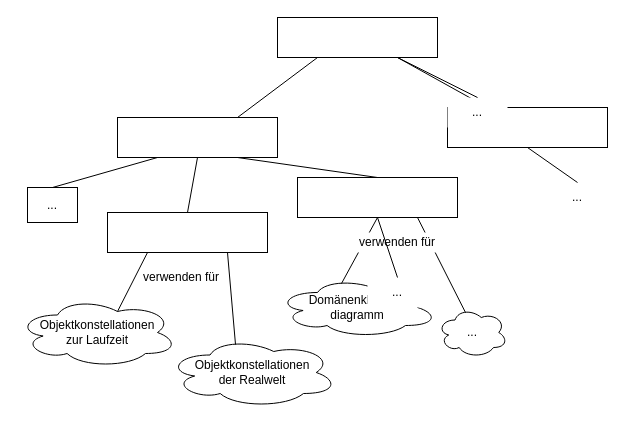
Some shapes in this 625 by 425 pixel diagram are drawn without their labels. The box of each missing label's shape, as (x1, y1, x2, y2) in pixels:
Klassendiagramm: (296, 176, 458, 218)
Objektdiagramm: (106, 212, 268, 252)
Strukturdiagramme: (116, 116, 278, 158)
UML-Diagramme: (276, 16, 438, 58)
Verhaltensdiagramme: (446, 106, 608, 148)
